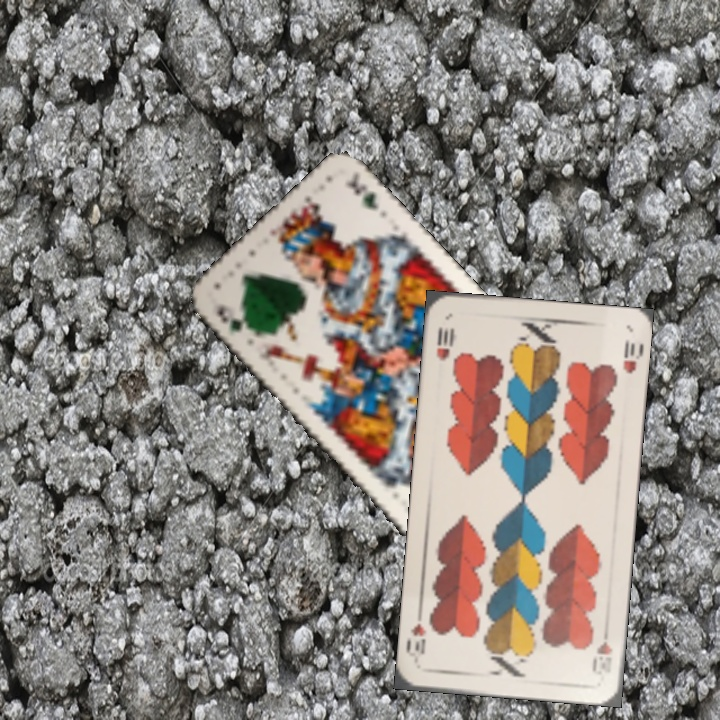GK: (212, 300, 258, 338)
H10: (588, 637, 616, 675), (432, 323, 457, 364)
